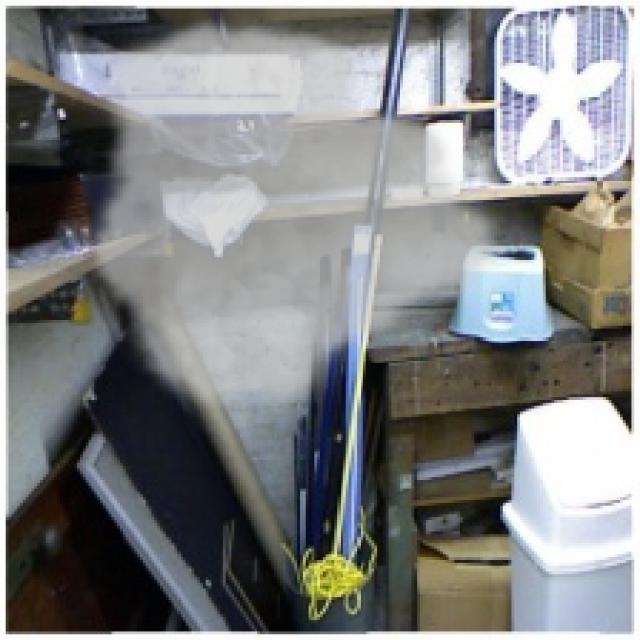smoke: (86, 14, 511, 420)
